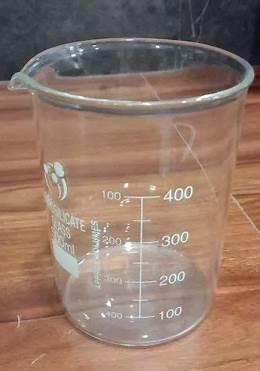Beaker: (10, 25, 254, 350)
